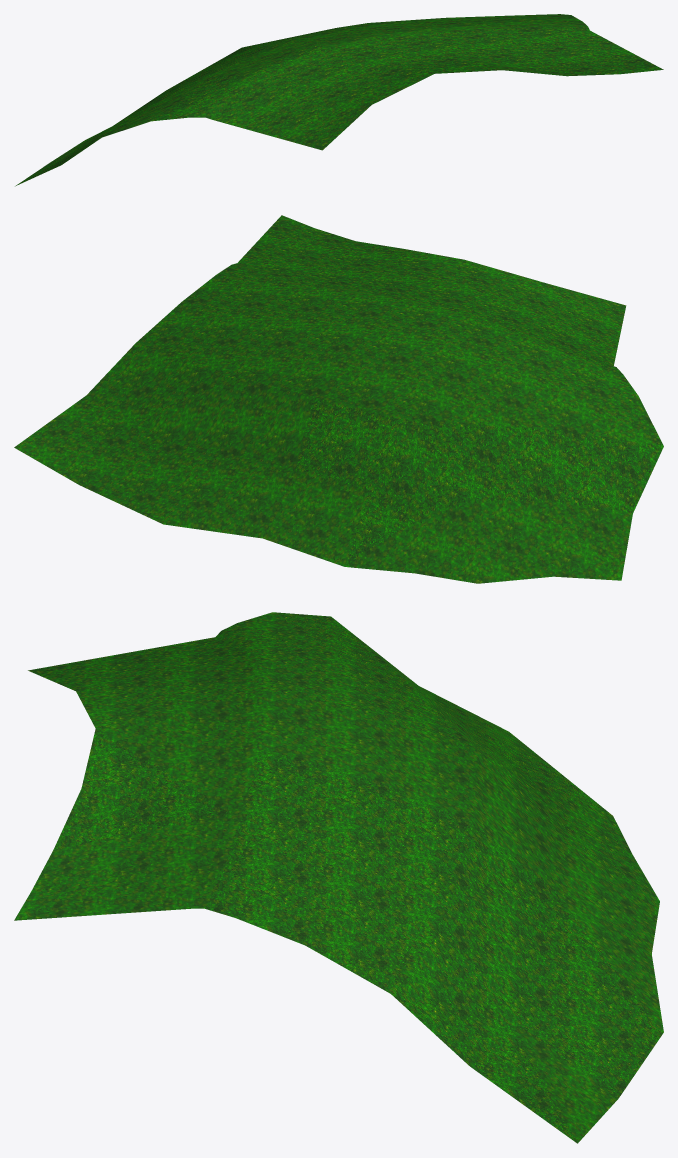
The model's file is HTOWN01_PS29.fbx.
3 renders of one model, top to bottom at view 1: azimuth 30°, elevation 25°; view 2: azimuth 150°, elevation 25°; view 3: azimuth 270°, elevation 25°, orthographic. The views are drawn at different scales.
Parts seen in each view (by area): view 1: HTOWN01_PS29; view 2: HTOWN01_PS29; view 3: HTOWN01_PS29.
Part boxes in pixels (x1=…): HTOWN01_PS29: x1=15, y1=14, x2=663, y2=186; HTOWN01_PS29: x1=14, y1=215, x2=663, y2=583; HTOWN01_PS29: x1=14, y1=612, x2=663, y2=1143.
Size of the model in its own units: 258533 by 63962 by 167824.
2 materials, 2 textured.
